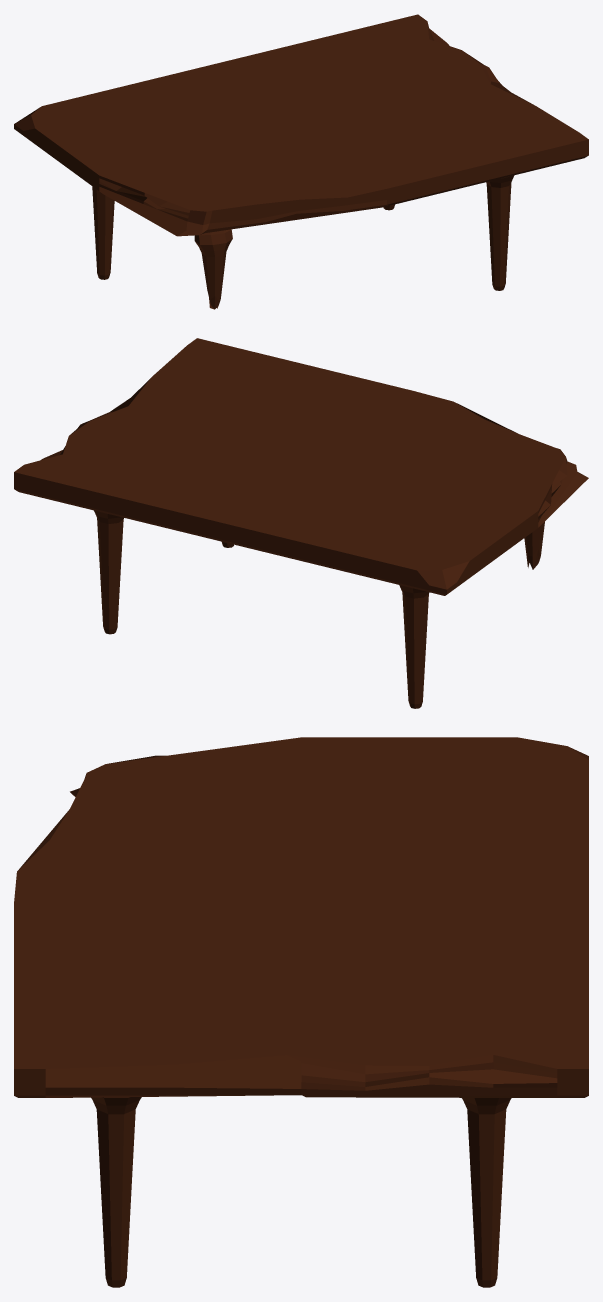
The model's file is TableBroken.glb.
The picture shows the model from 3 angles, top to bottom: view 1: azimuth 30°, elevation 25°; view 2: azimuth 150°, elevation 25°; view 3: azimuth 270°, elevation 25°; orthographic projection. The views are drawn at different scales.
Visible parts, largest first — view 1: TableBroken-col; view 2: TableBroken-col; view 3: TableBroken-col.
Part boxes in pixels (box(x1,y1,x2,y2)): TableBroken-col: box(14, 14, 588, 309); TableBroken-col: box(14, 338, 588, 708); TableBroken-col: box(14, 737, 588, 1287).
Bounding box in the file's own units: 14.45 × 5.3 × 10.46.
1 material, 1 textured.
